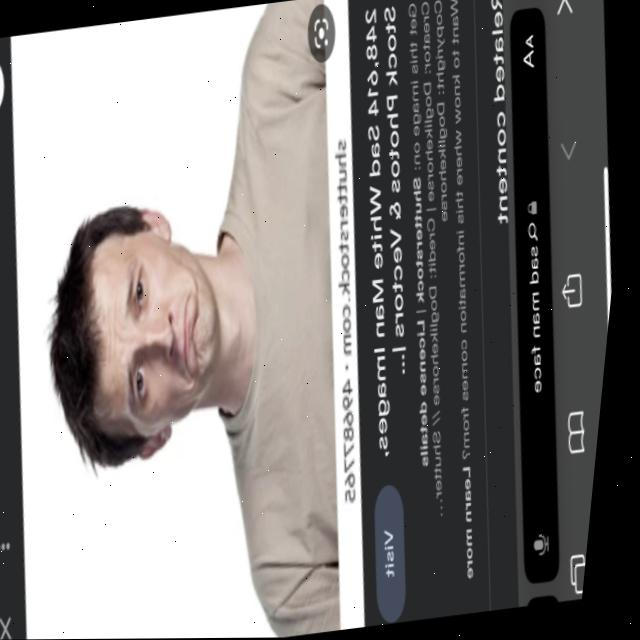sad: (56, 210, 249, 484)
